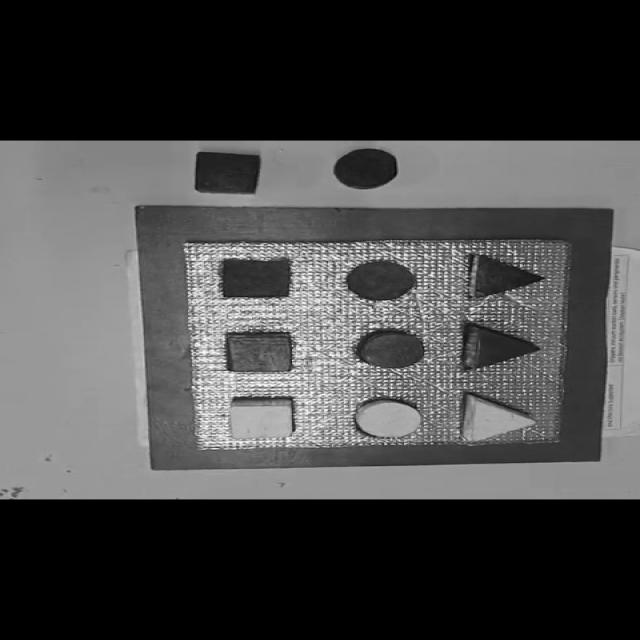bcircle: (332, 148, 399, 190)
bcube: (193, 151, 263, 196)
btriangle: (466, 253, 547, 300)
mtcircle: (345, 260, 418, 302)
mtcube: (218, 258, 294, 299)
rcircle: (358, 330, 426, 368)
rcube: (225, 333, 294, 373)
rtriangle: (461, 324, 542, 369)
wb: (184, 239, 575, 452)
ycircle: (353, 398, 424, 438)
ycube: (226, 396, 296, 440)
ytriangle: (459, 392, 538, 442)
